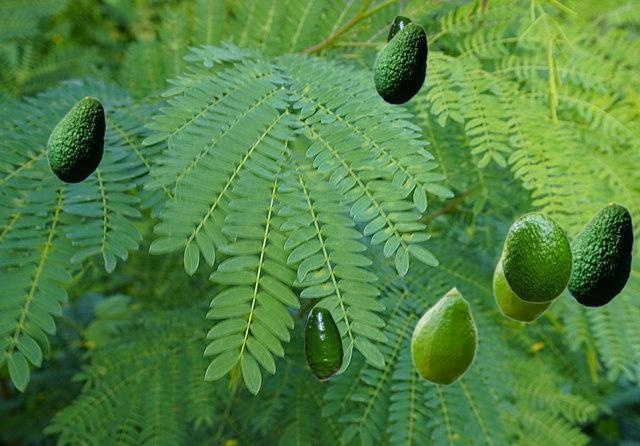avocado: (566, 202, 633, 307), (410, 285, 477, 385), (501, 211, 572, 302), (46, 96, 105, 183), (372, 22, 427, 104), (492, 253, 557, 322), (304, 306, 342, 379), (387, 15, 412, 41)
